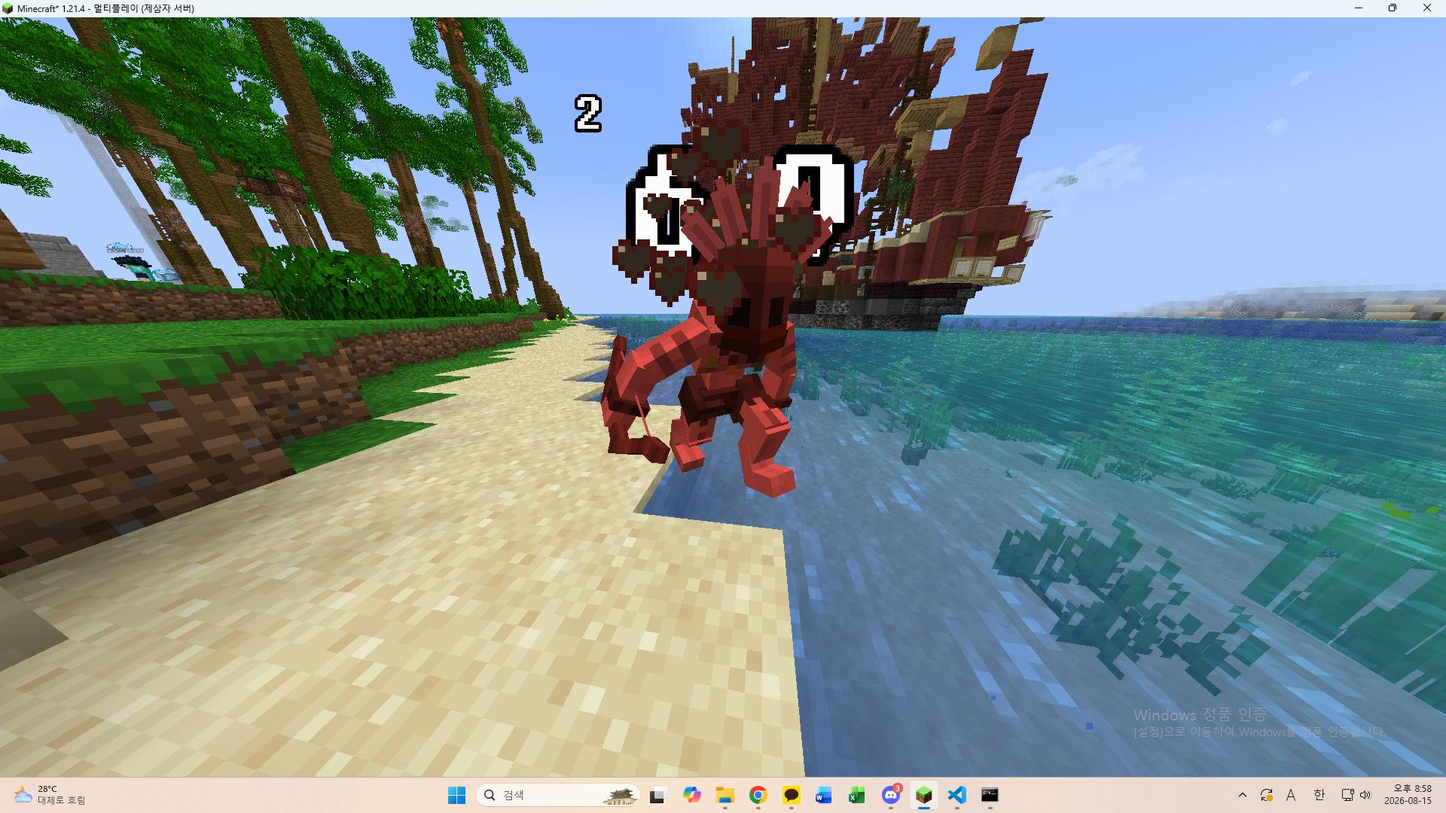bow_indian: (556, 148, 910, 544)
